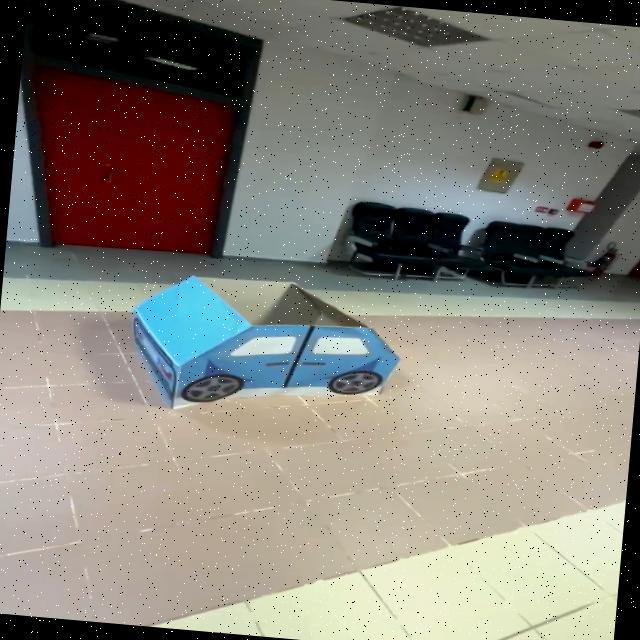blue_car: (98, 259, 440, 437)
